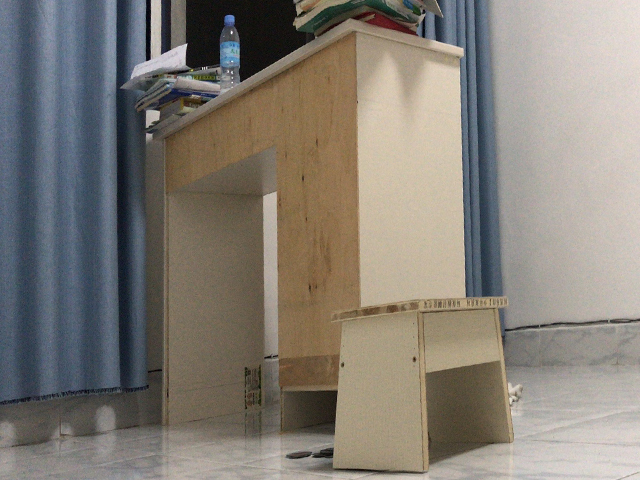curtain: (1, 1, 151, 403)
stool: (332, 294, 517, 473)
table: (151, 15, 467, 433)
